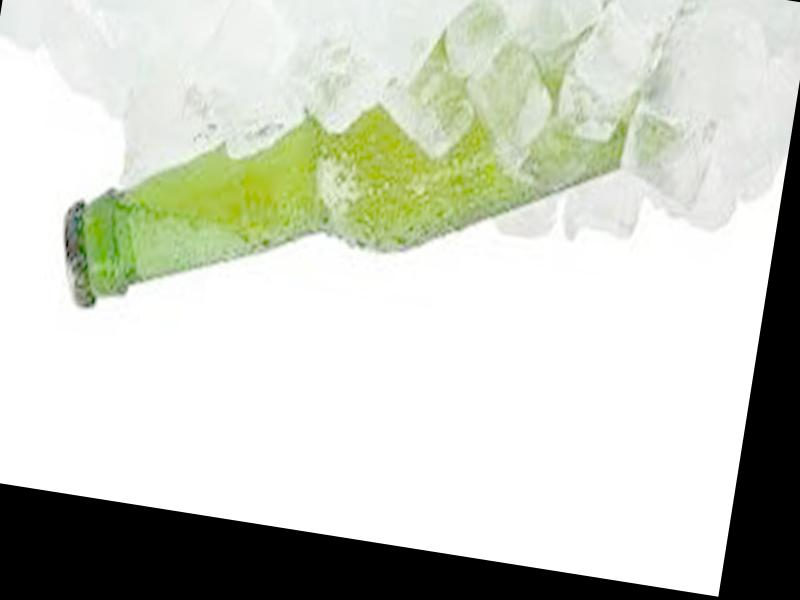Beer: (45, 6, 674, 389)
